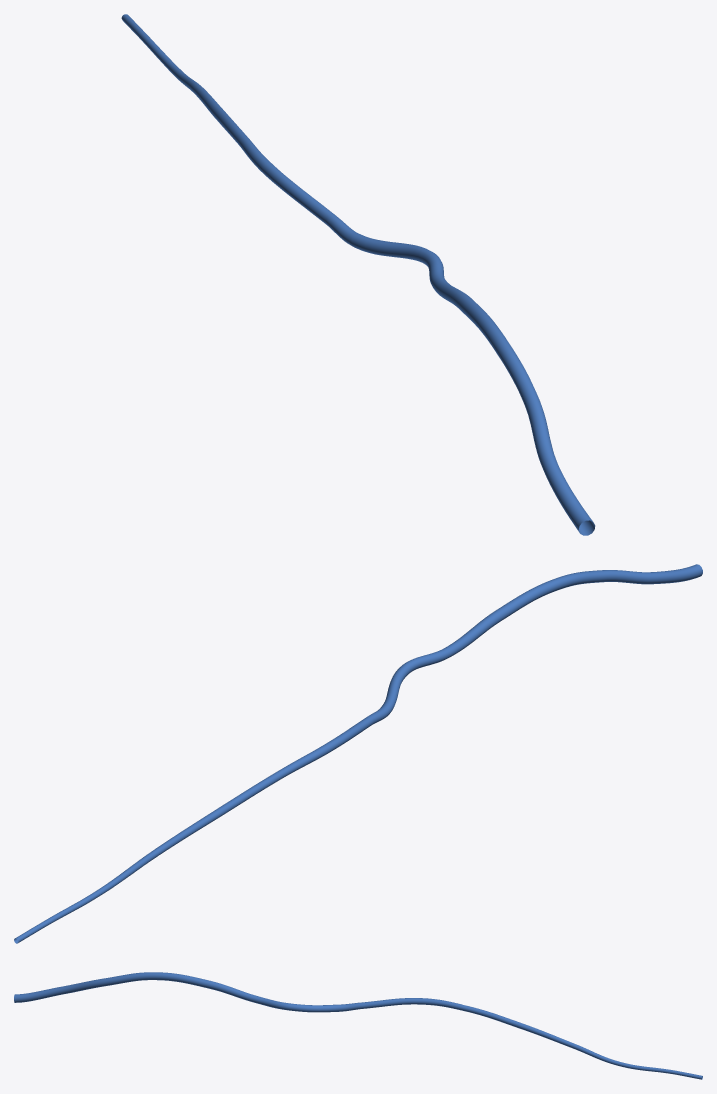
3 views of the same model, one above another, from view 1: azimuth 30°, elevation 25°; view 2: azimuth 150°, elevation 25°; view 3: azimuth 270°, elevation 25° (orthographic). The views are drawn at different scales.
Parts seen in each view (by area): view 1: 左侧贵要静脉; view 2: 左侧贵要静脉; view 3: 左侧贵要静脉.
Part boxes in pixels (box(x1,y1,x2,y2)): 左侧贵要静脉: box(121, 14, 595, 535); 左侧贵要静脉: box(14, 564, 702, 943); 左侧贵要静脉: box(14, 972, 702, 1079).
Bounding box in the file's own units: 0.1365 × 0.0719 × 0.6878.
